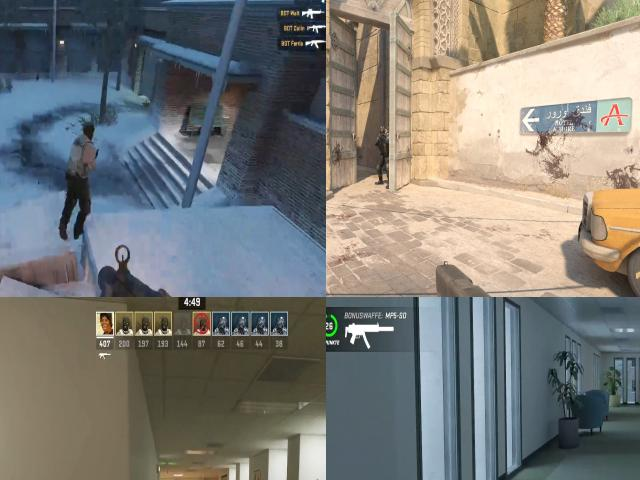CT: (378, 127, 389, 183)
CT-Head: (380, 127, 384, 135)
T: (64, 133, 101, 202)
T-Head: (78, 118, 95, 147)
